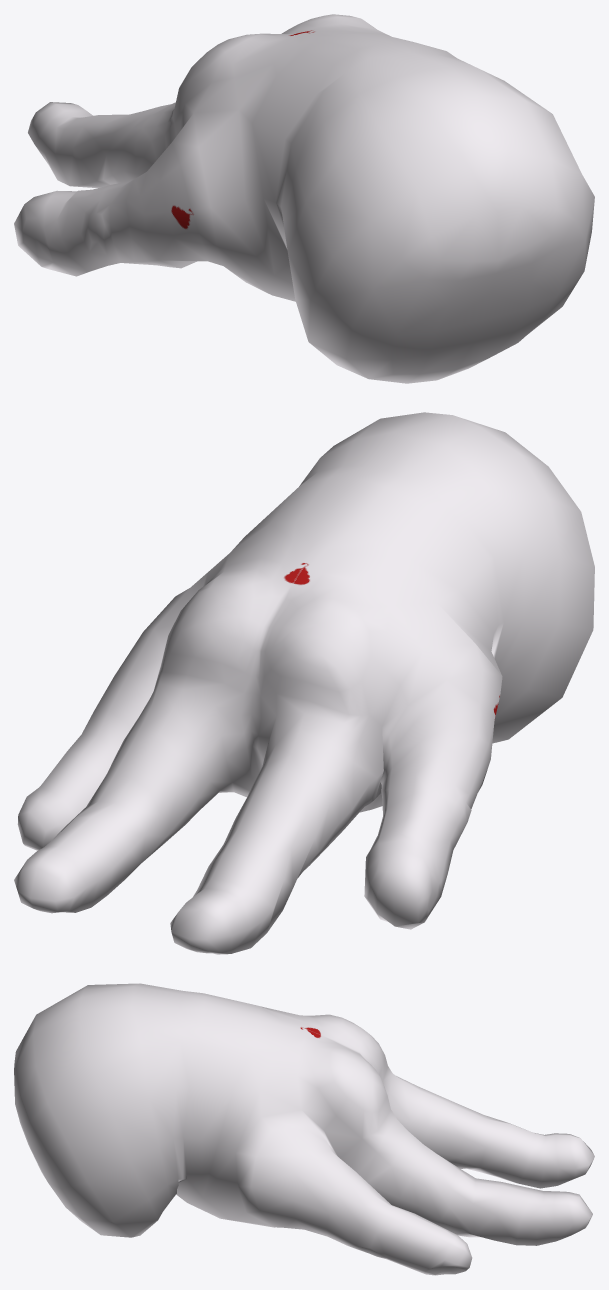
Rendered from mrhandy_dead.fbx.
3 views of the same model, one above another, from view 1: azimuth 30°, elevation 25°; view 2: azimuth 150°, elevation 25°; view 3: azimuth 270°, elevation 25° (orthographic). The views are drawn at different scales.
Visible parts, largest first — view 1: mrhandy_carita_01:polySurface4; view 2: mrhandy_carita_01:polySurface4; view 3: mrhandy_carita_01:polySurface4.
Part boxes in pixels (x1,y1,x2,y2): mrhandy_carita_01:polySurface4: (14, 14, 594, 383); mrhandy_carita_01:polySurface4: (14, 412, 594, 954); mrhandy_carita_01:polySurface4: (14, 983, 594, 1275).
Size of the model in its own units: 39.25 by 29.01 by 66.66.
1 material, 1 textured.
